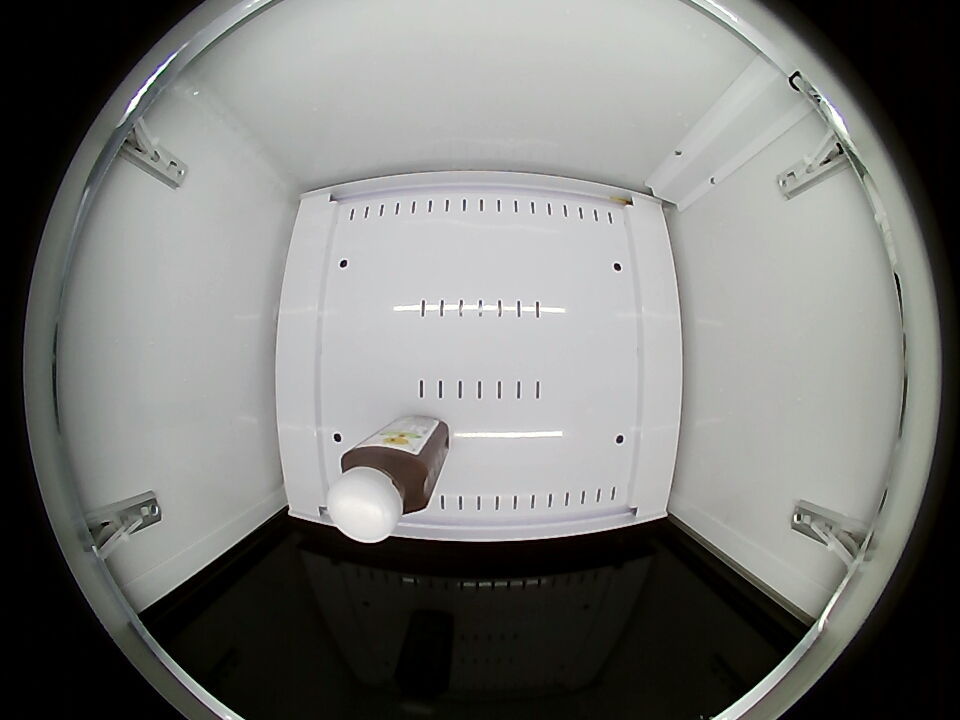youyanggudong: (327, 439, 435, 543)
